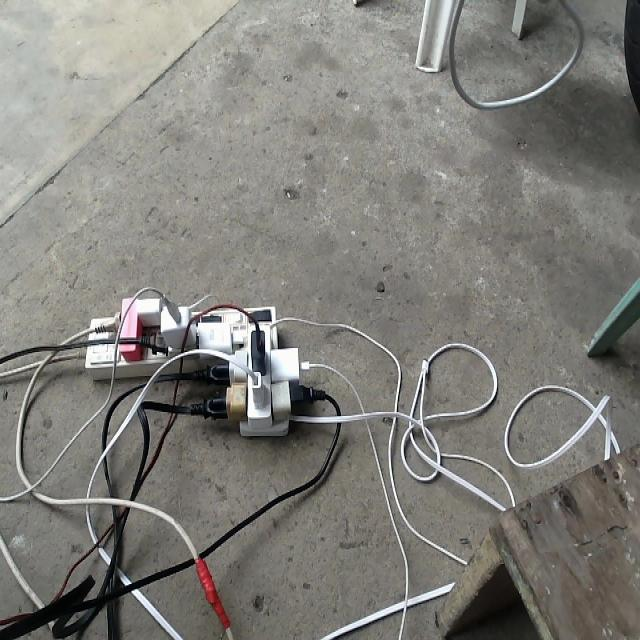-: (84, 290, 326, 434)
